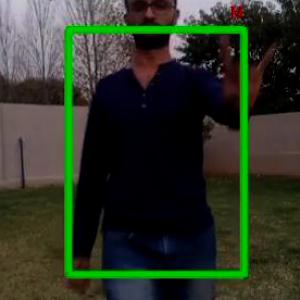takeoff-hand: (210, 29, 284, 110)
